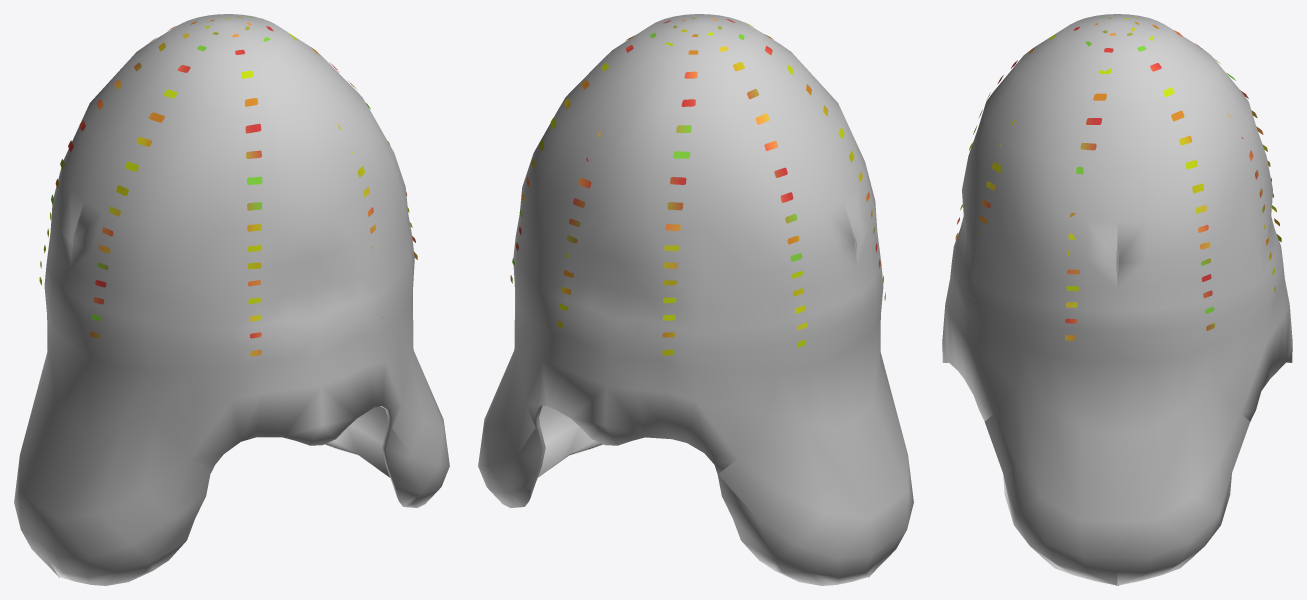
File: bloodJelly_temp03.fbx
The picture shows the model from 3 angles, left to right: view 1: azimuth 30°, elevation 25°; view 2: azimuth 150°, elevation 25°; view 3: azimuth 270°, elevation 25°; orthographic projection. The views are drawn at different scales.
Parts seen in each view (by area): view 1: Plane.036; view 2: Plane.036; view 3: Plane.036.
Part boxes in pixels (x1=…): Plane.036: x1=14, y1=14, x2=449, y2=585; Plane.036: x1=478, y1=14, x2=913, y2=585; Plane.036: x1=942, y1=14, x2=1292, y2=585.
Bounding box in the file's own units: 0.6885 × 0.8697 × 0.5699.
